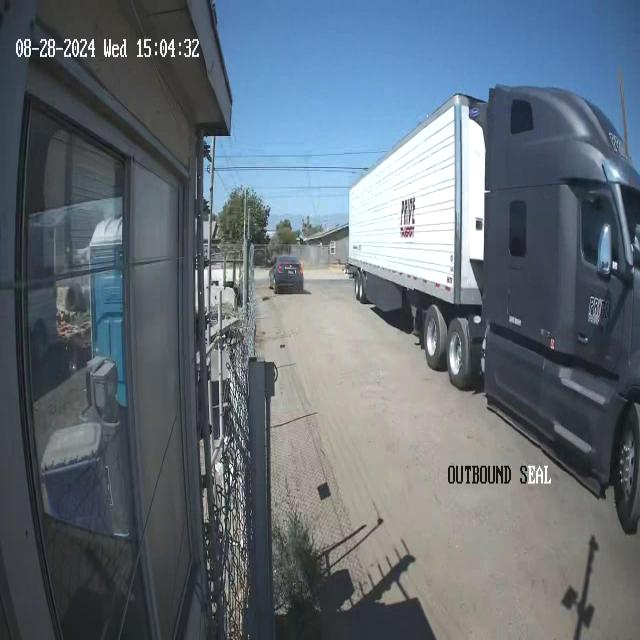CONTAINER: (346, 78, 487, 317)
